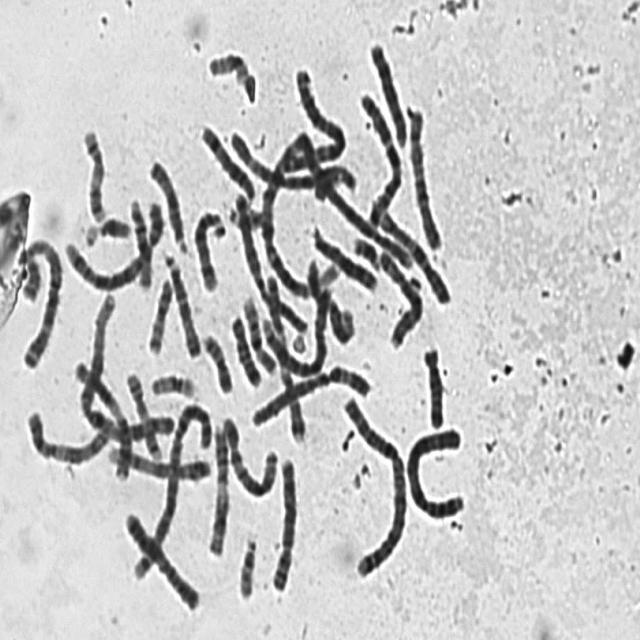A1: (76, 286, 181, 445), (253, 118, 342, 303)
A2: (126, 392, 216, 582), (334, 385, 408, 581)
A3: (271, 60, 344, 178), (14, 228, 66, 371)
B4: (282, 122, 417, 273), (401, 417, 469, 523)
B5: (59, 189, 165, 293), (259, 254, 334, 380)
C10: (373, 202, 452, 308), (402, 98, 445, 252)
C11: (69, 358, 135, 489), (201, 412, 232, 560)
C12: (216, 406, 280, 500), (309, 260, 359, 348)
C6: (224, 120, 358, 197), (245, 356, 374, 430)
C7: (261, 266, 311, 448), (354, 82, 406, 227)
C8: (363, 31, 410, 149), (266, 446, 300, 594)
C9: (20, 400, 114, 467), (105, 435, 215, 484)
D13: (304, 221, 380, 294), (233, 189, 274, 301)
D14: (249, 255, 310, 344), (188, 200, 227, 294)
D15: (158, 240, 203, 361), (143, 148, 190, 256)
E16: (237, 286, 278, 377), (123, 189, 155, 292)
E17: (119, 362, 165, 462), (76, 117, 110, 225)
E18: (226, 306, 264, 388), (416, 337, 447, 431)
F19: (208, 43, 262, 108), (144, 363, 199, 400)
F20: (142, 268, 174, 358), (195, 322, 234, 395)
G21: (78, 206, 135, 248), (346, 226, 382, 272)
G22: (232, 523, 260, 602), (18, 242, 46, 308)
X: (118, 500, 202, 613), (374, 238, 426, 350)
